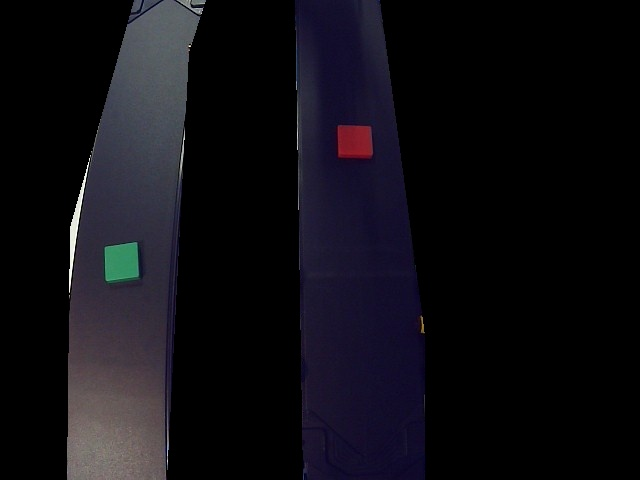Green_Square: (101, 238, 142, 286)
Red_Square: (337, 123, 374, 158)
